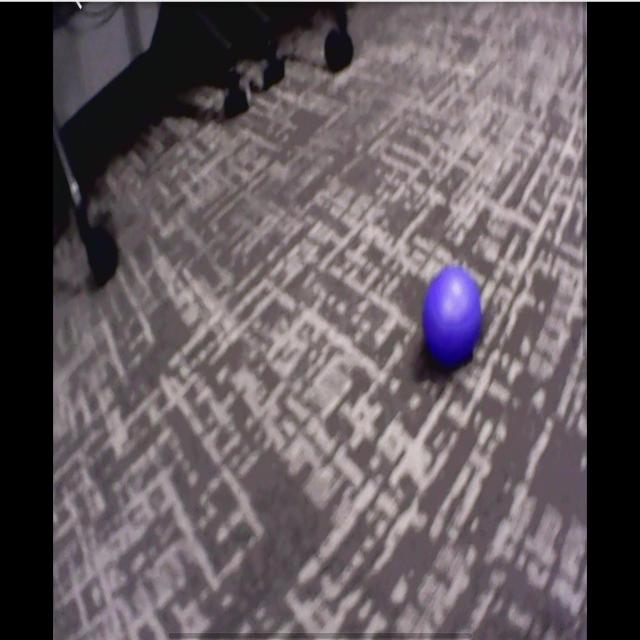ball: (423, 270, 484, 358)
